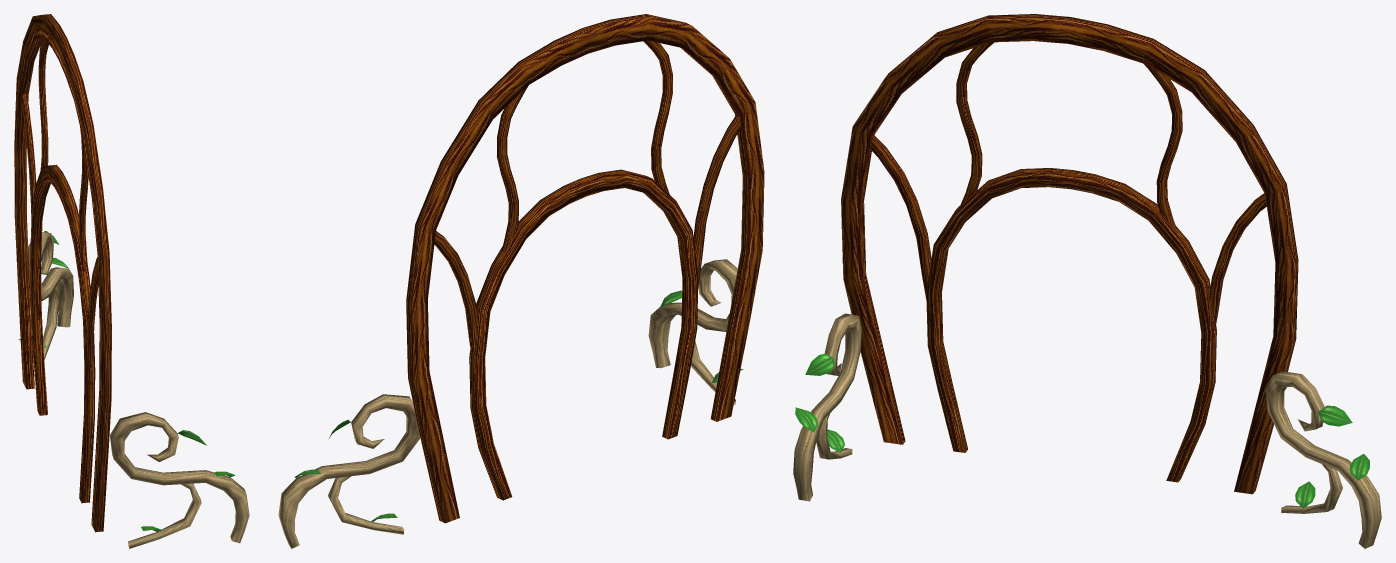
Rendered from EKH_THRONE_PS_TH_DOOR47463__GX.obj.
The picture shows the model from 3 angles, left to right: view 1: azimuth 30°, elevation 25°; view 2: azimuth 150°, elevation 25°; view 3: azimuth 270°, elevation 25°; orthographic projection. The views are drawn at different scales.
Visible parts, largest first — view 1: H_Door47463__GX; view 2: H_Door47463__GX; view 3: H_Door47463__GX.
Part boxes in pixels (x1,y1,x2,y2): H_Door47463__GX: (14, 14, 249, 548); H_Door47463__GX: (278, 14, 764, 548); H_Door47463__GX: (793, 14, 1381, 548).
Bounding box in the file's own units: 196 × 367 × 431.
